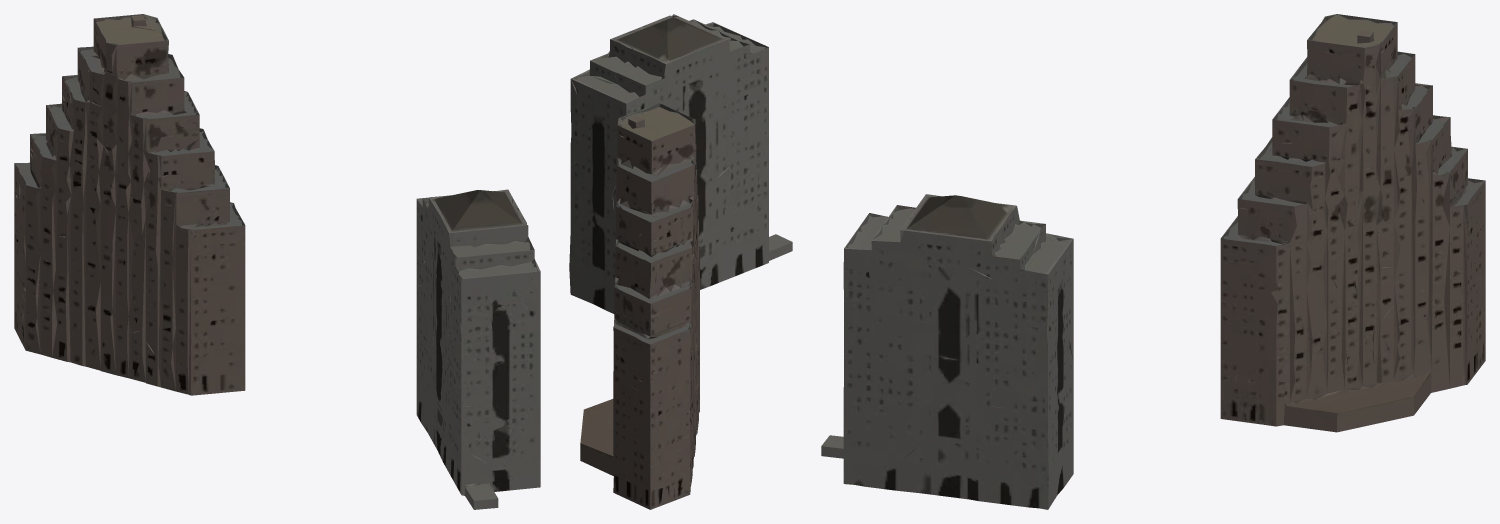
File: t_-2_10.coat.glb
3 views of the same model, side by side, from view 1: azimuth 30°, elevation 25°; view 2: azimuth 150°, elevation 25°; view 3: azimuth 270°, elevation 25° (orthographic). The views are drawn at different scales.
Parts seen in each view (by area): view 1: far; view 2: far; view 3: far.
Part boxes in pixels (<box>): far: <box>14,14,540,509</box>; far: <box>569,14,792,509</box>; far: <box>821,14,1485,509</box>.
Size of the model in its own units: 116 by 125 by 207.
1 material, 1 textured.
